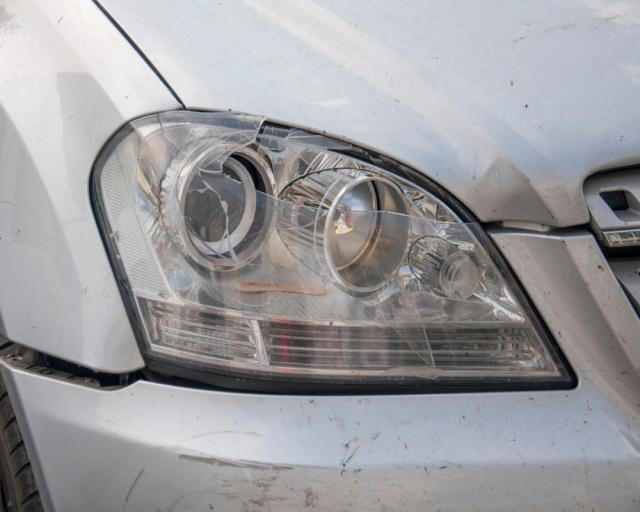lamp broken: (94, 111, 577, 395)
scratch: (113, 421, 349, 512)
